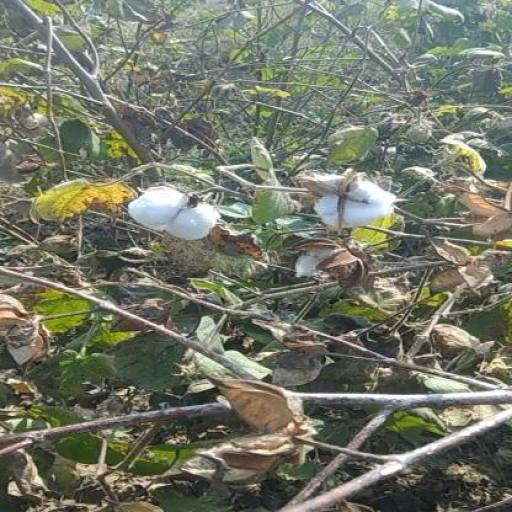cotton_ready: (112, 167, 234, 245), (292, 167, 413, 240)
